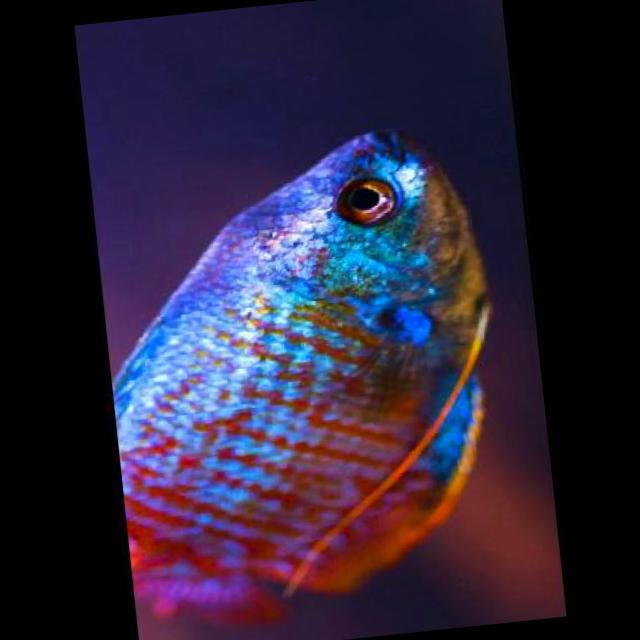Gourami: (86, 123, 522, 638)
